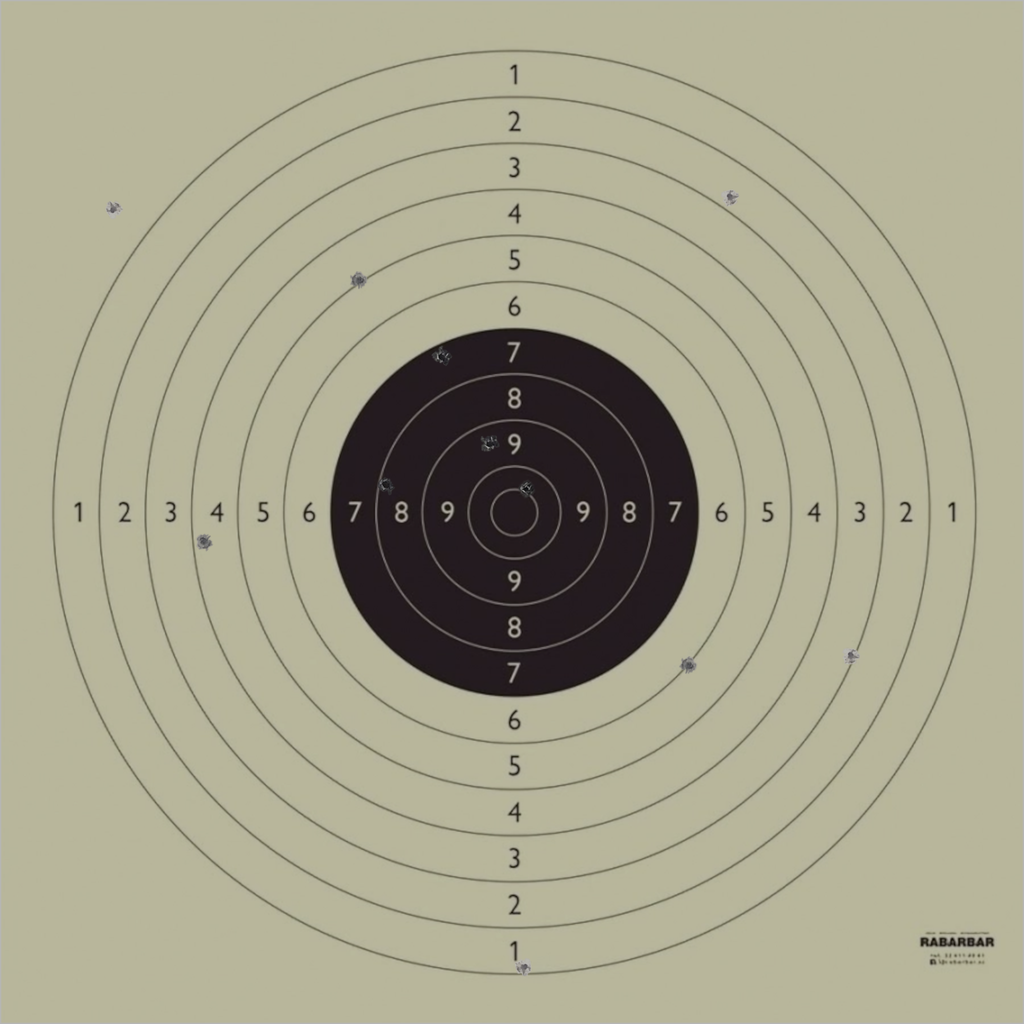0 punktow: (104, 200, 122, 219)
1 punkt: (515, 958, 533, 976)
10 punktow: (517, 480, 535, 498)
2 punkty: (721, 188, 739, 206)
3 punkty: (842, 646, 860, 665)
4 punkty: (195, 532, 213, 551)
5 punktow: (350, 271, 369, 290)
6 punktow: (680, 656, 698, 675)
7 punktow: (433, 348, 451, 366)
8 punktow: (377, 476, 395, 494)
9 punktow: (481, 435, 499, 453)
